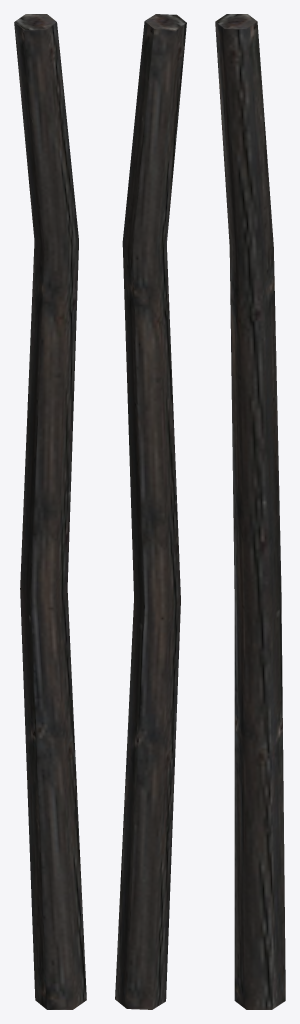
Rendered from WoodenLog_02.FBX.
3 views of the same model, side by side, from view 1: azimuth 30°, elevation 25°; view 2: azimuth 210°, elevation 25°; view 3: azimuth 330°, elevation 25° (orthographic).
Parts seen in each view (by area): view 1: WoodenLog_02; view 2: WoodenLog_02; view 3: WoodenLog_02.
Boxes of the visible parts, box(x1,y1,x2,y2) form: WoodenLog_02: box(14, 14, 86, 1009); WoodenLog_02: box(115, 14, 186, 1009); WoodenLog_02: box(215, 14, 285, 1009).
Bounding box in the file's own units: 18.63 × 286 × 17.22.
